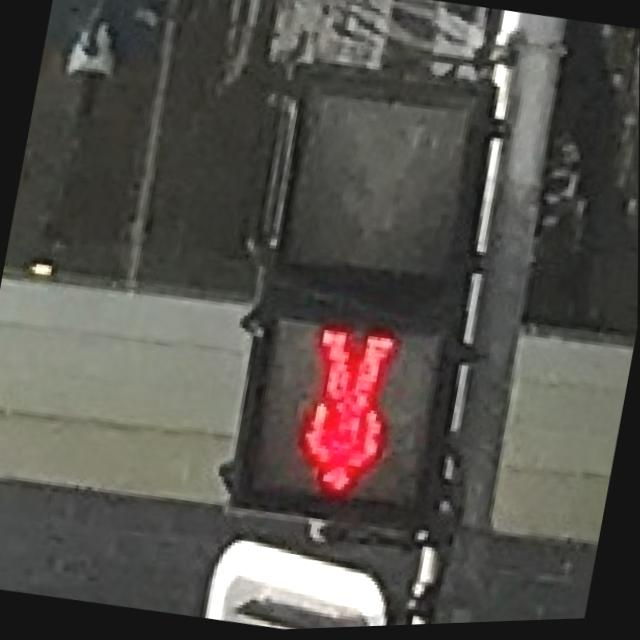red_light: (241, 307, 433, 532)
